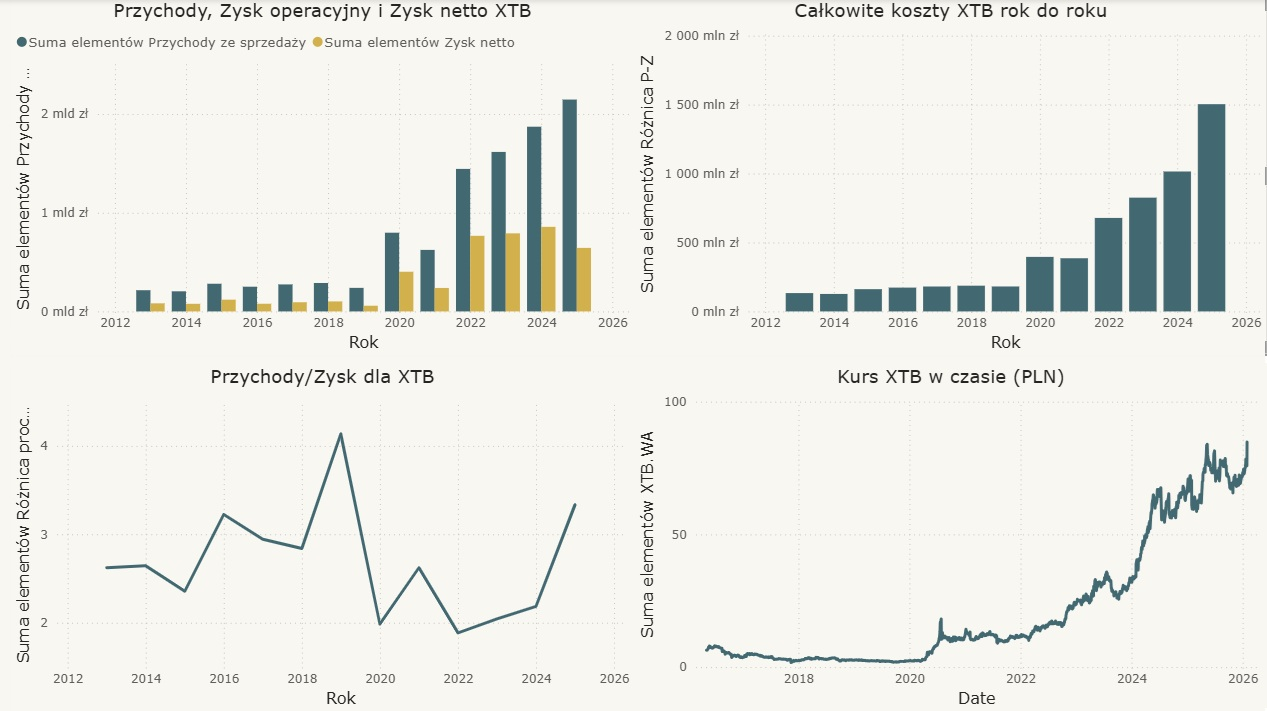

The page's visual inventory and layout, read from the dashboard file:
{"tool":"powerbi","page":{"name":"Strona 1","canvas":[1280,720],"ordinal":0},"visuals":[{"type":"lineClusteredColumnComboChart","title":"Przychody, Zysk operacyjny i Zysk netto XTB","fields":{"Y":["Sum(XTB_dane_finansowe.Przychody ze sprzedaży)","Sum(XTB_dane_finansowe.Zysk netto)"],"Category":["XTB_dane_finansowe.Rok"]},"box":[10.6,0,629.9,360.4],"z":0},{"type":"lineChart","title":"Przychody/Zysk dla XTB","fields":{"Category":["XTB_dane_finansowe.Rok"],"Y":["Sum(XTB_dane_finansowe.Różnica procent. P/Z)"]},"box":[10.6,369.5,629.9,349.8],"z":1000},{"type":"clusteredColumnChart","title":"Całkowite koszty XTB rok do roku","fields":{"Category":["XTB_dane_finansowe.Rok"],"Y":["Sum(XTB_dane_finansowe.Różnica P-Z)"]},"box":[640.5,0,639,360.4],"z":2000},{"type":"lineChart","title":"Kurs XTB w czasie (PLN)","fields":{"Y":["Sum(xtb_full_history.XTB.WA)"],"Category":["xtb_full_history.Date"]},"box":[641,369,639,350],"z":2001}]}

Visuals, with their boxes in screenshot pixels (x1, y1, x2, y2), scaled from the page's 1280x720 canvas onto the 1267x711 screenshot:
"Przychody, Zysk operacyjny i Zysk netto XTB" lineClusteredColumnComboChart: {"left": 10, "top": 0, "right": 634, "bottom": 356}
"Przychody/Zysk dla XTB" lineChart: {"left": 10, "top": 365, "right": 634, "bottom": 710}
"Całkowite koszty XTB rok do roku" clusteredColumnChart: {"left": 634, "top": 0, "right": 1266, "bottom": 356}
"Kurs XTB w czasie (PLN)" lineChart: {"left": 634, "top": 364, "right": 1266, "bottom": 710}
